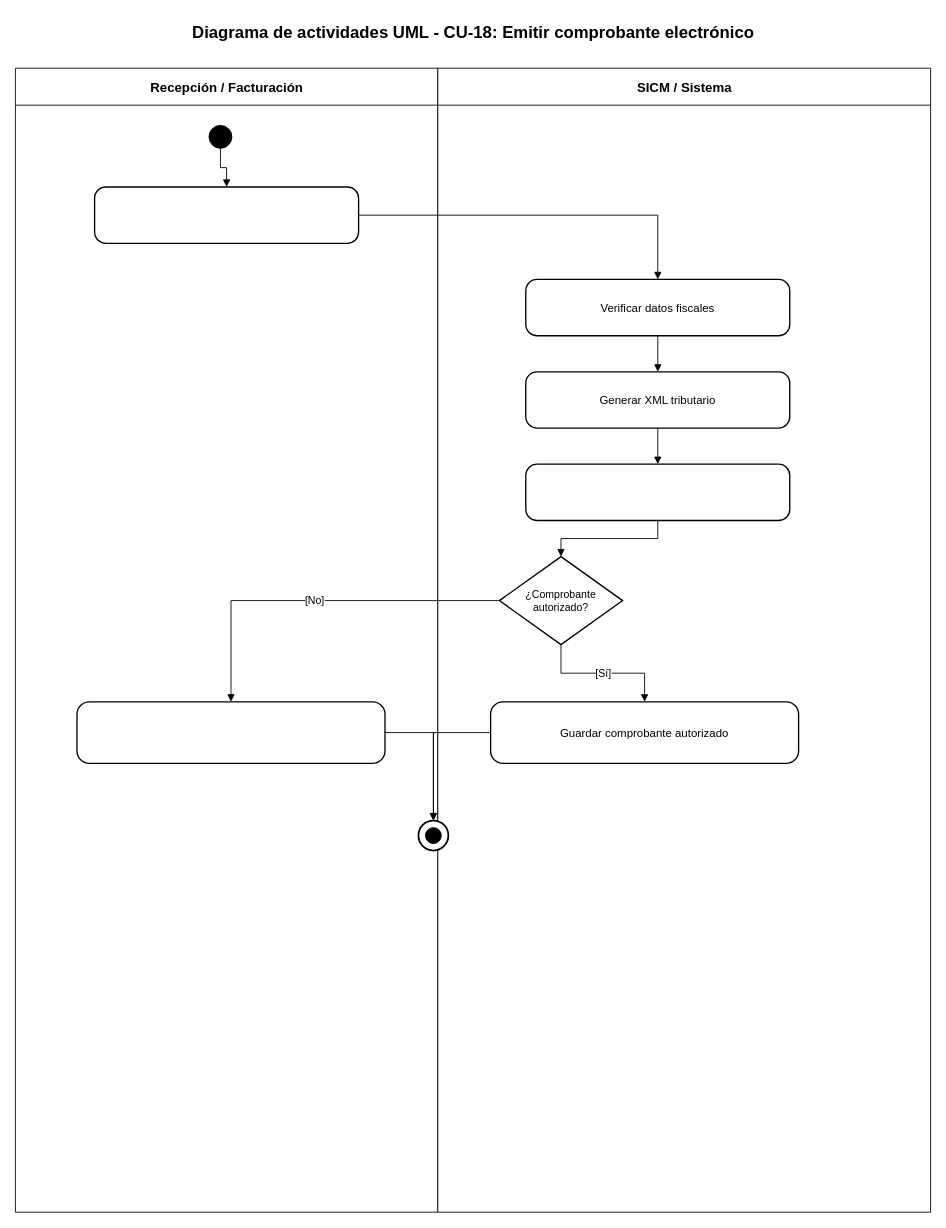
Some shapes in this 946 by 1228 pixel diagram are drawn without their labels. Each missing label, with the centre of its shape:
Enviar solicitud al SRI: the point at 657,492
Informar fallo y mantener cobro sin facturar: the point at 230,732
Seleccionar cobro registrado: the point at 226,215
